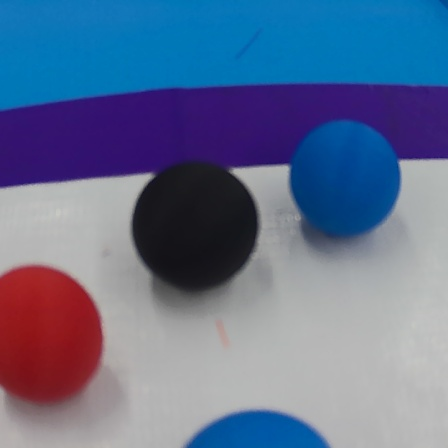black: (133, 158, 261, 299)
blue: (290, 112, 403, 242), (174, 402, 341, 448)
blue_aim: (3, 0, 448, 192)
red: (2, 260, 101, 411)
